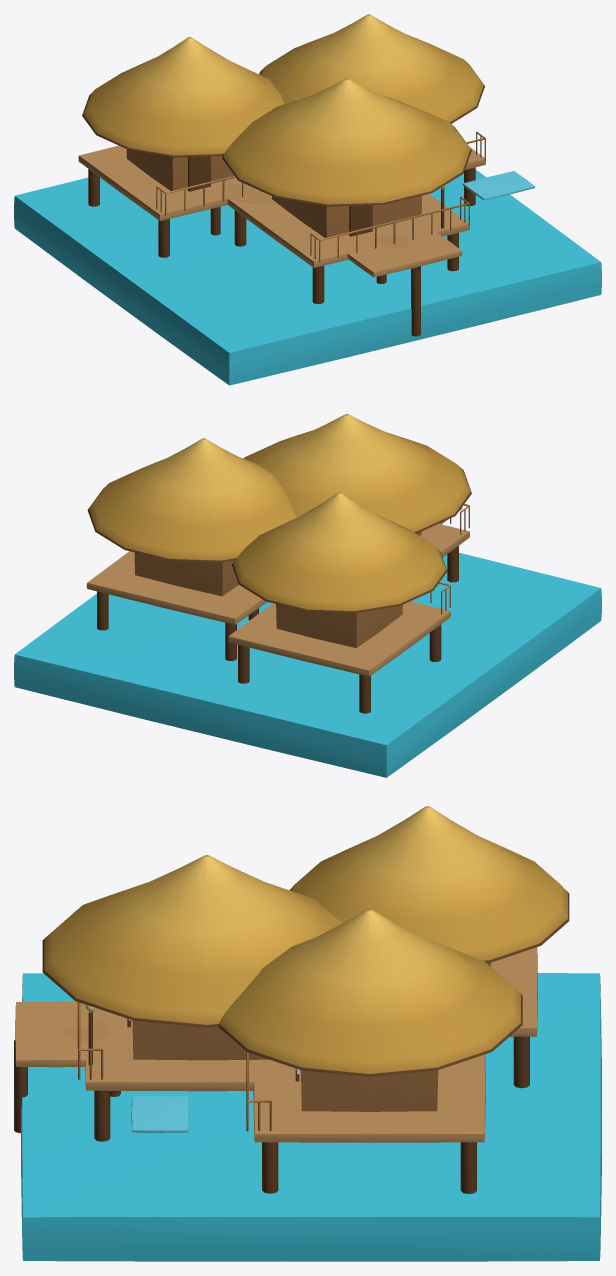
Rendered from OverwaterBungalow_L4.obj.
The picture shows the model from 3 angles, top to bottom: view 1: azimuth 30°, elevation 25°; view 2: azimuth 150°, elevation 25°; view 3: azimuth 270°, elevation 25°; orthographic projection. The views are drawn at different scales.
Parts seen in each view (by area): view 1: OverwaterBungalow_L4; view 2: OverwaterBungalow_L4; view 3: OverwaterBungalow_L4.
Boxes of the visible parts, bbox=[...] form: OverwaterBungalow_L4: bbox=[14, 14, 601, 385]; OverwaterBungalow_L4: bbox=[14, 414, 601, 777]; OverwaterBungalow_L4: bbox=[14, 806, 601, 1261].
Bounding box in the file's own units: 5 × 2.7 × 5.06.
Materials: 1 (1 with a texture image).
